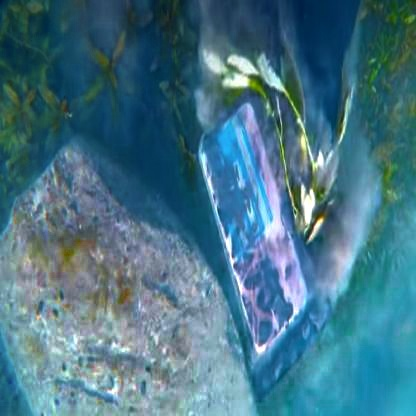cellphone: (183, 91, 338, 383)
